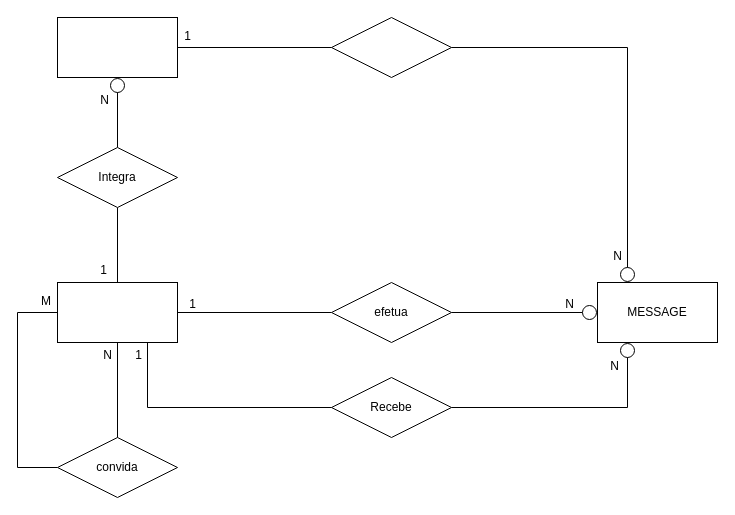
This 735x515 diagram has some shape labels left out. Each missing label, with the centre of its shape:
GROUP: (x=117, y=47)
Inclui: (x=391, y=47)
USER: (x=117, y=312)
